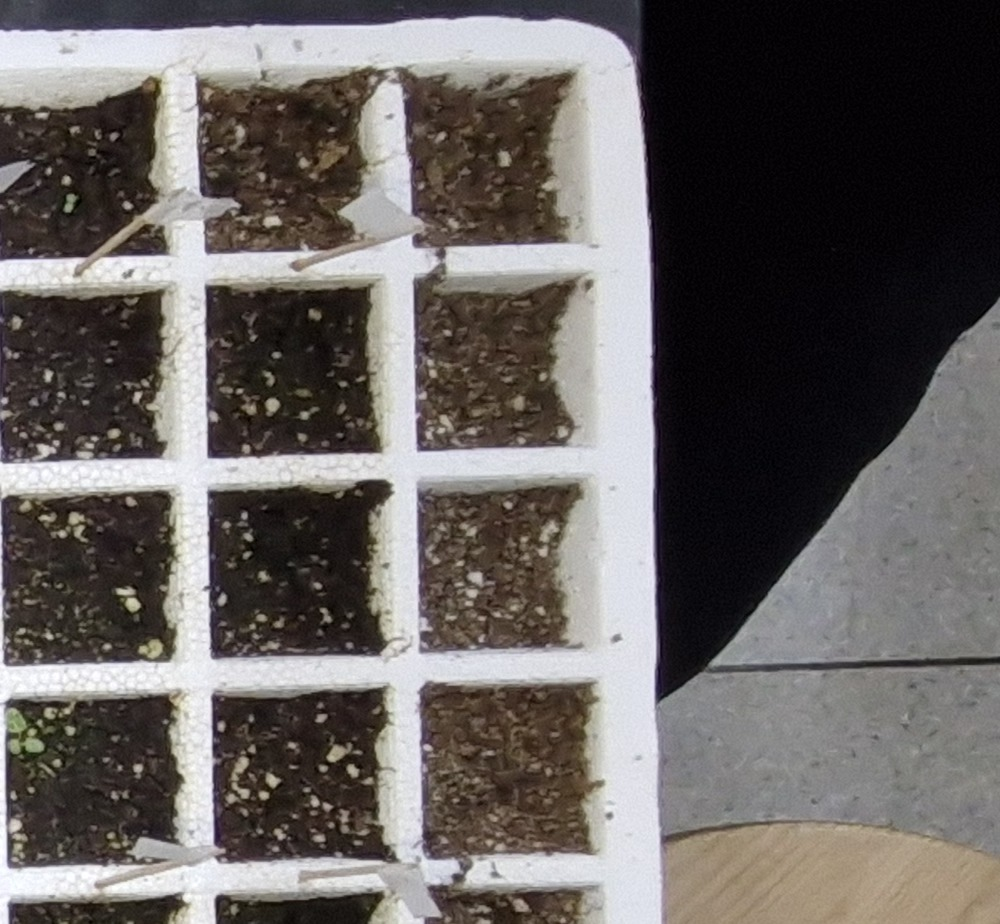Folha: (6, 708, 27, 732), (26, 738, 46, 751), (8, 738, 21, 753)
Germinacao: (4, 707, 44, 755), (64, 193, 78, 212)
